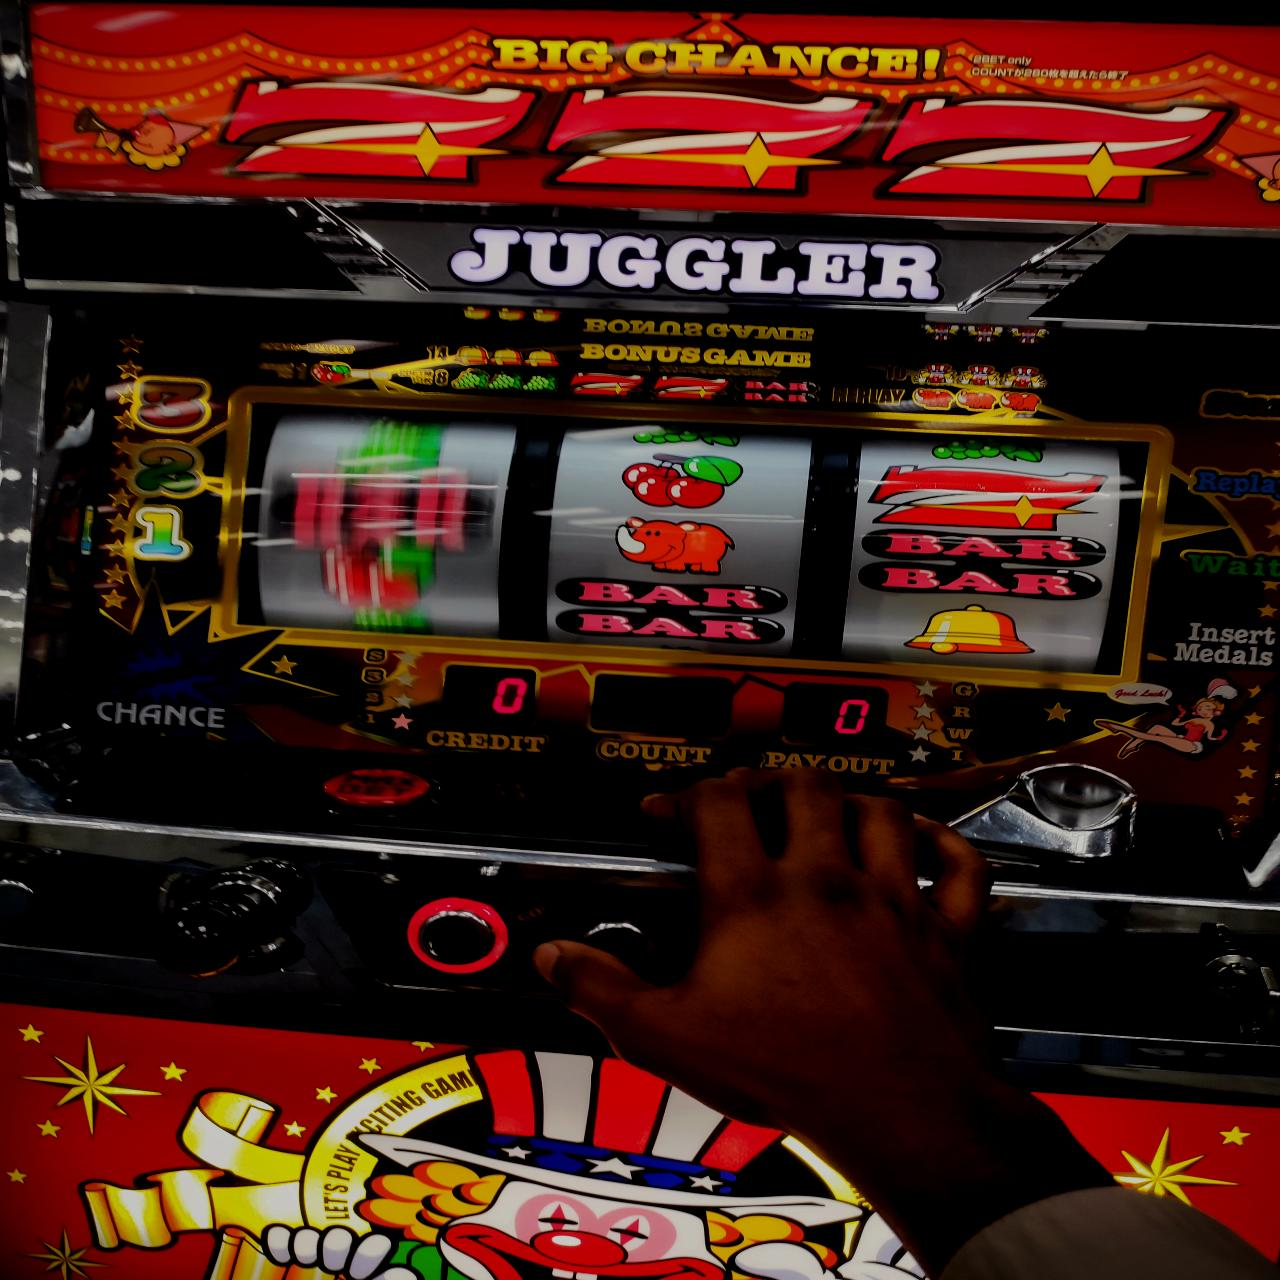7: (866, 464, 1114, 531)
8: (613, 517, 741, 578)
bar: (554, 577, 791, 648), (865, 531, 1101, 600)
bell: (906, 604, 1032, 659)
cherry: (619, 452, 742, 508)
rhino: (234, 399, 1138, 692)
